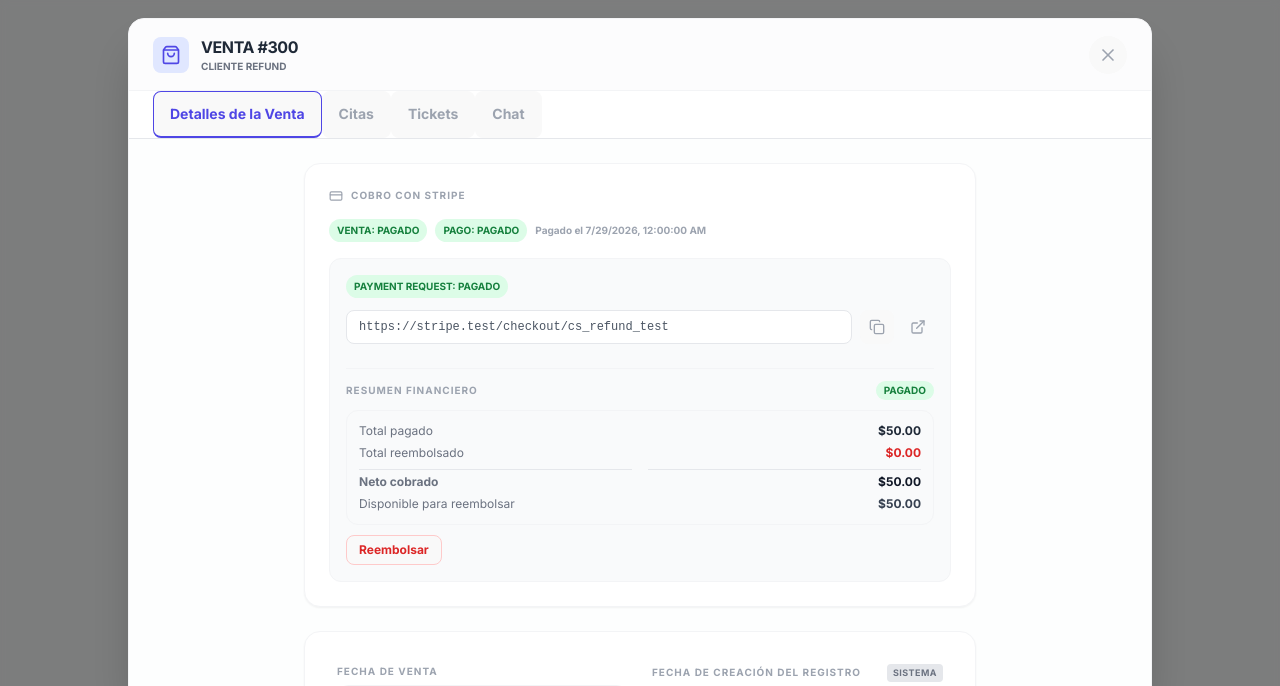
it: SaleModal — visible partial and full refund flow › submits a partial refund and reflects the resulting status
Click the button "Reembolsar". click: (394, 550)
box: x1=346 y1=535 x2=442 y2=565
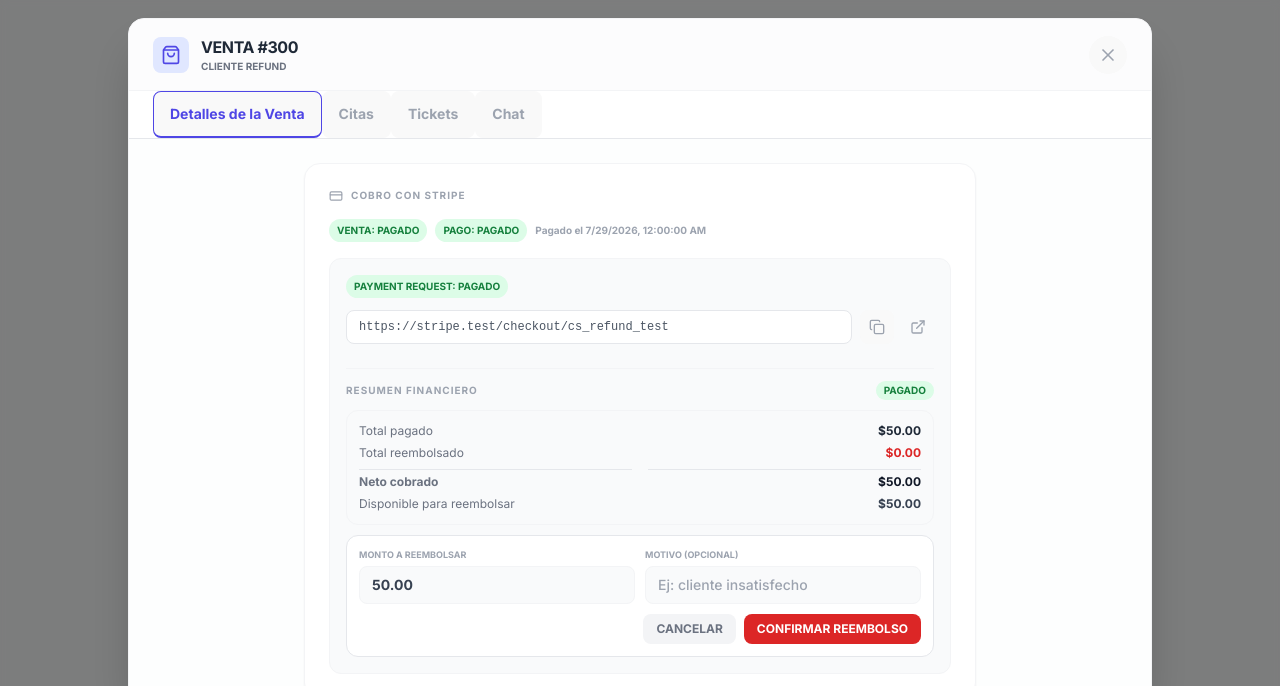
Expected: the text "Monto a reembolsar" is shown, x1=359 y1=549 x2=466 y2=560
Replace the text in the number field with "20". click: (497, 584)
box: x1=359 y1=566 x2=635 y2=604
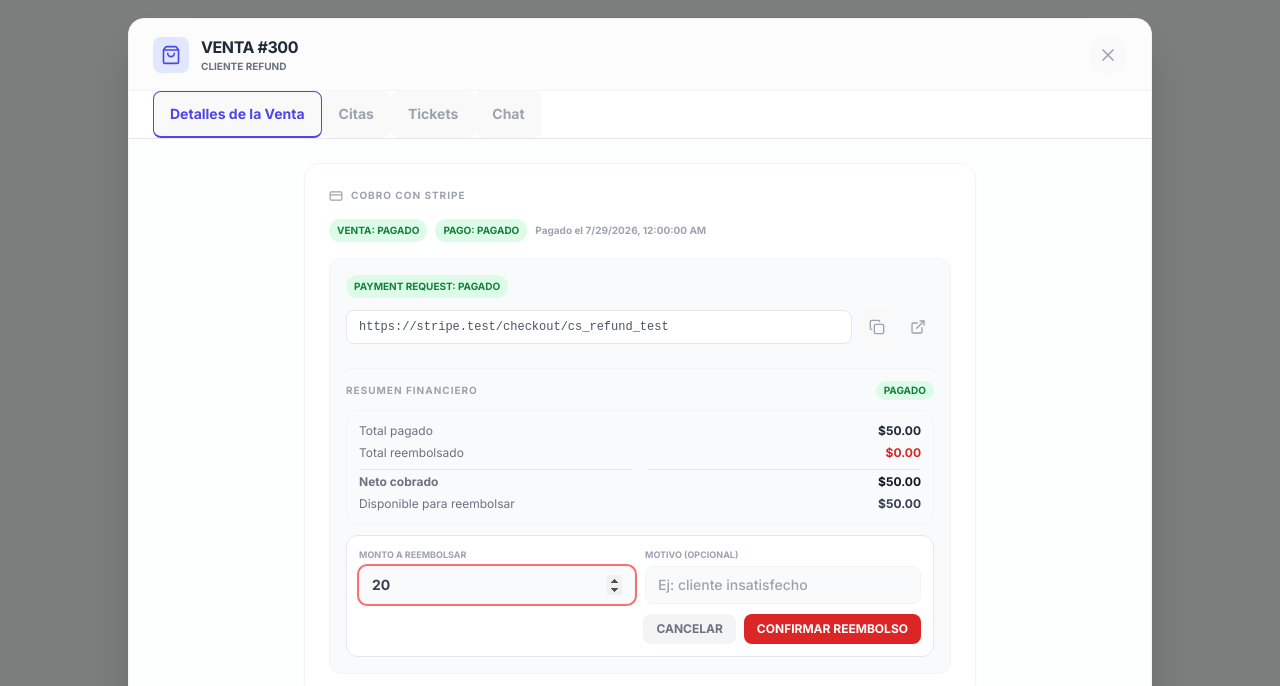
Click the button "Confirmar Reembolso". click: (832, 628)
box: x1=744 y1=614 x2=921 y2=644
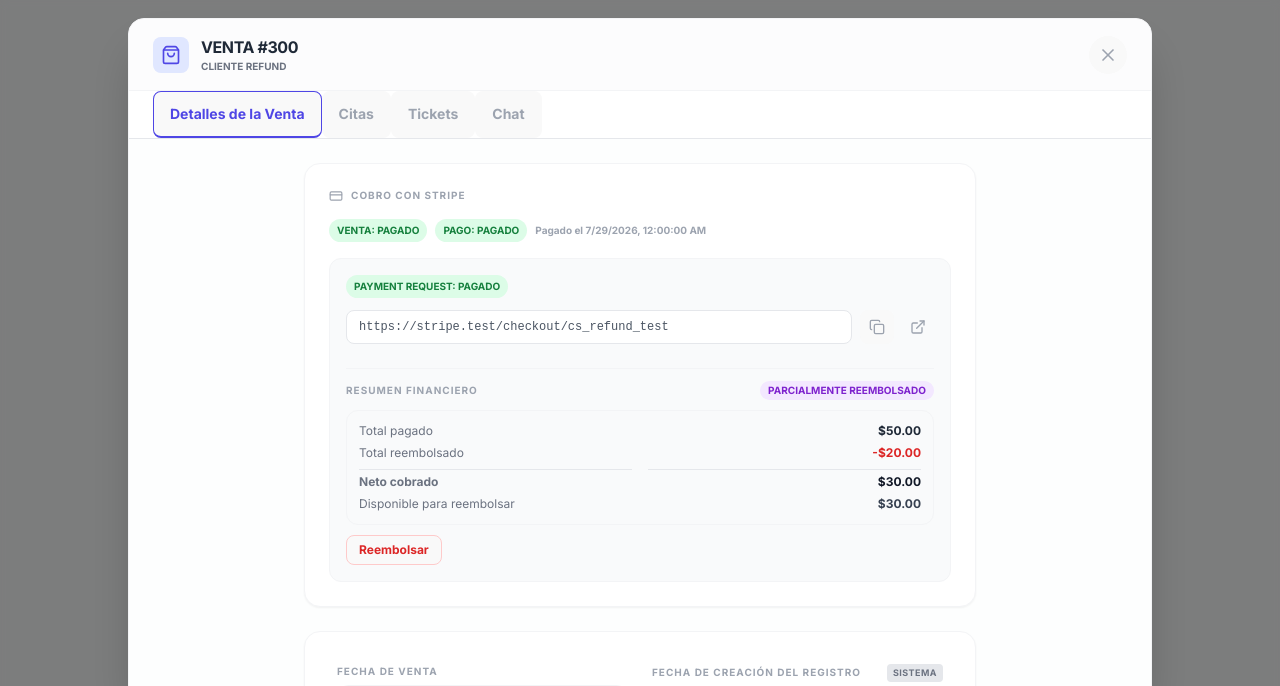
Expected: the text "Parcialmente Reembolsado" is shown, x1=760 y1=381 x2=934 y2=400
